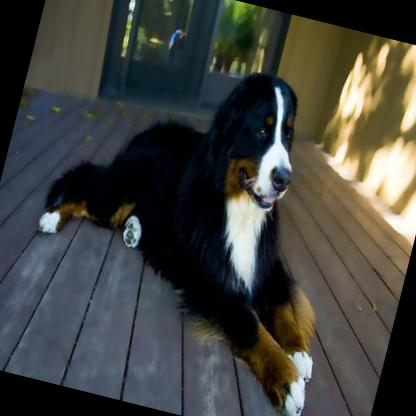Bernese_mountain_dog: (8, 25, 379, 416)
